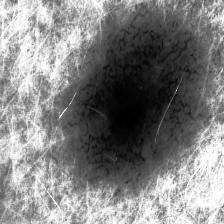Benign Marking or Mole: (80, 14, 208, 192)
